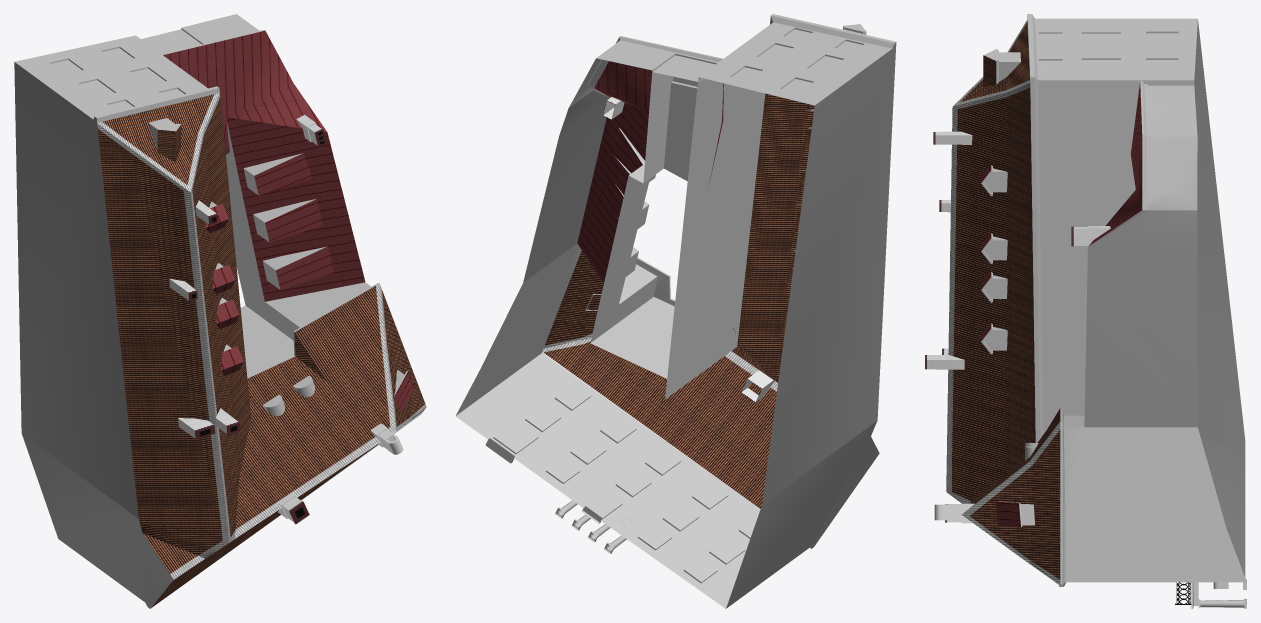
File: Lossi_plats_4.obj
3 views of the same model, side by side, from view 1: azimuth 30°, elevation 25°; view 2: azimuth 150°, elevation 25°; view 3: azimuth 270°, elevation 25° (orthographic). The views are drawn at different scales.
Parts seen in each view (by area): view 1: Lossi_plats_4; view 2: Lossi_plats_4; view 3: Lossi_plats_4.
Part boxes in pixels (bbox=[...]): Lossi_plats_4: bbox=[14, 14, 426, 608]; Lossi_plats_4: bbox=[455, 14, 896, 608]; Lossi_plats_4: bbox=[925, 14, 1246, 608].
Size of the model in its own units: 25.32 by 36.28 by 19.81.
